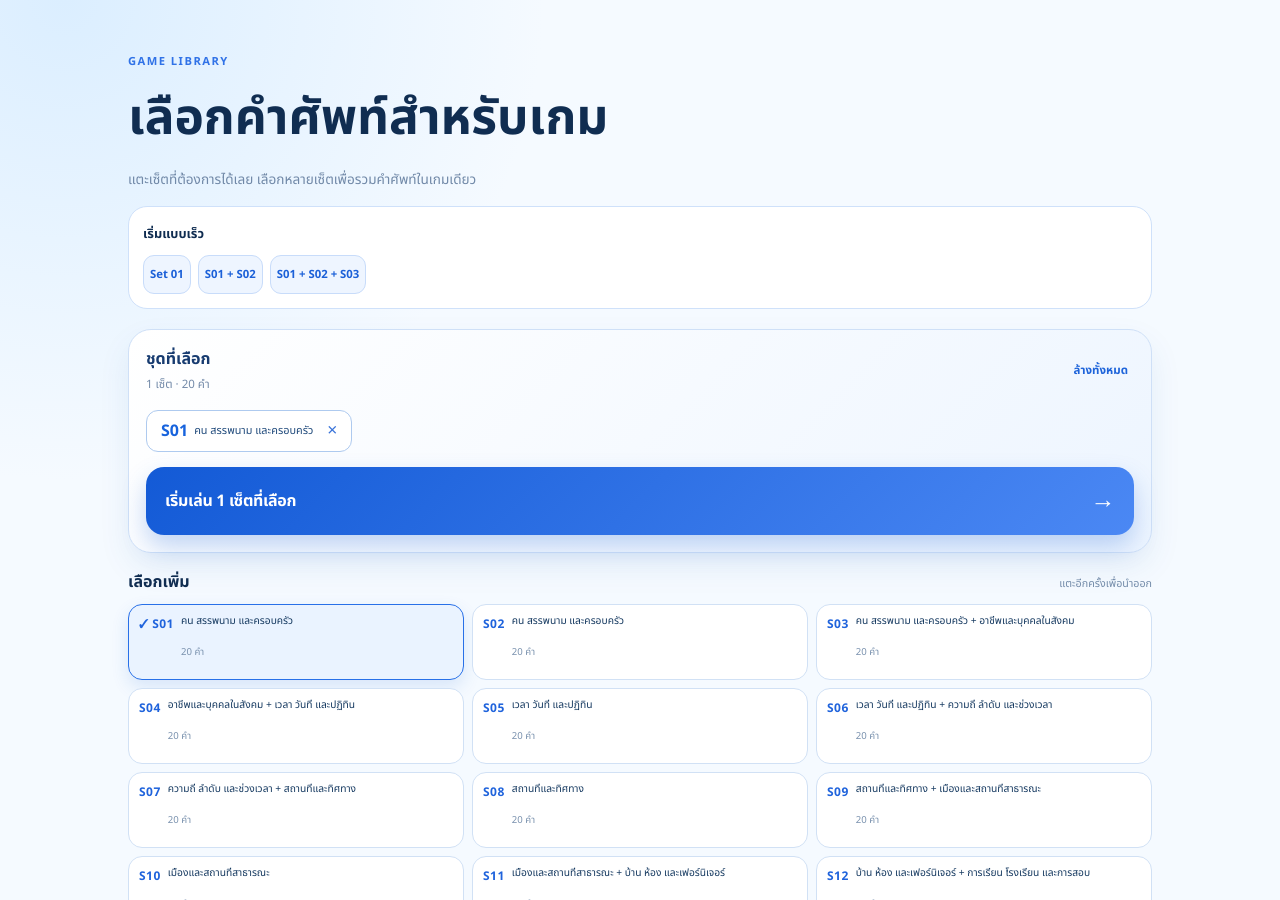
Test: lets a learner select multiple sets for a game
Expected: the link "เริ่มเล่น 1 เซ็ตที่เลือก →" is shown, [146,467,1134,535]
Click the button with aria-label "เลือก S02" at coordinates (568, 621), box [472,604,808,680]
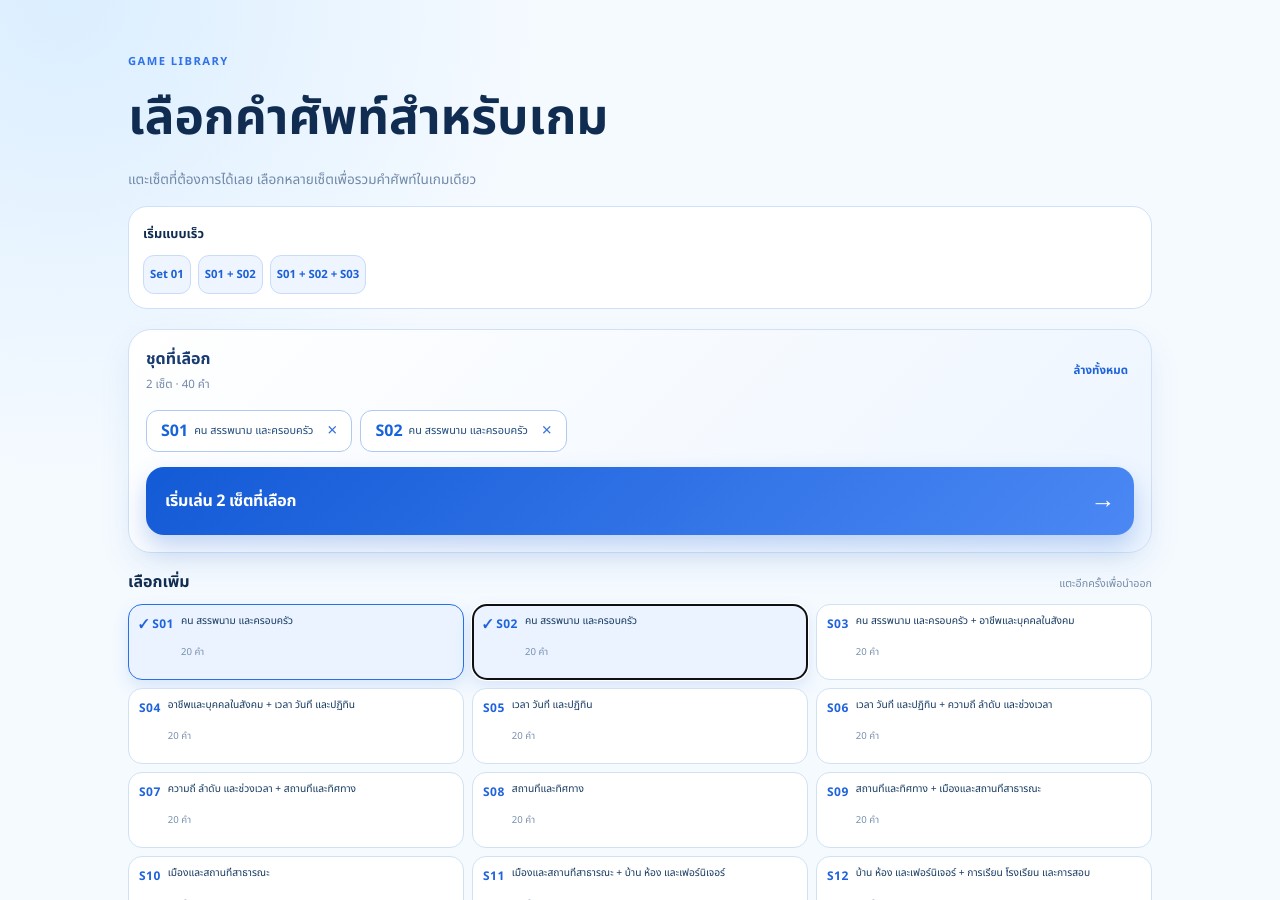
Now the link "เริ่มเล่น 2 เซ็ตที่เลือก →" has attribute href="/practice/S01+S02", box [146,467,1134,535]
Click the button with aria-label "ลบ S01" at coordinates (249, 431), box [146,410,352,452]
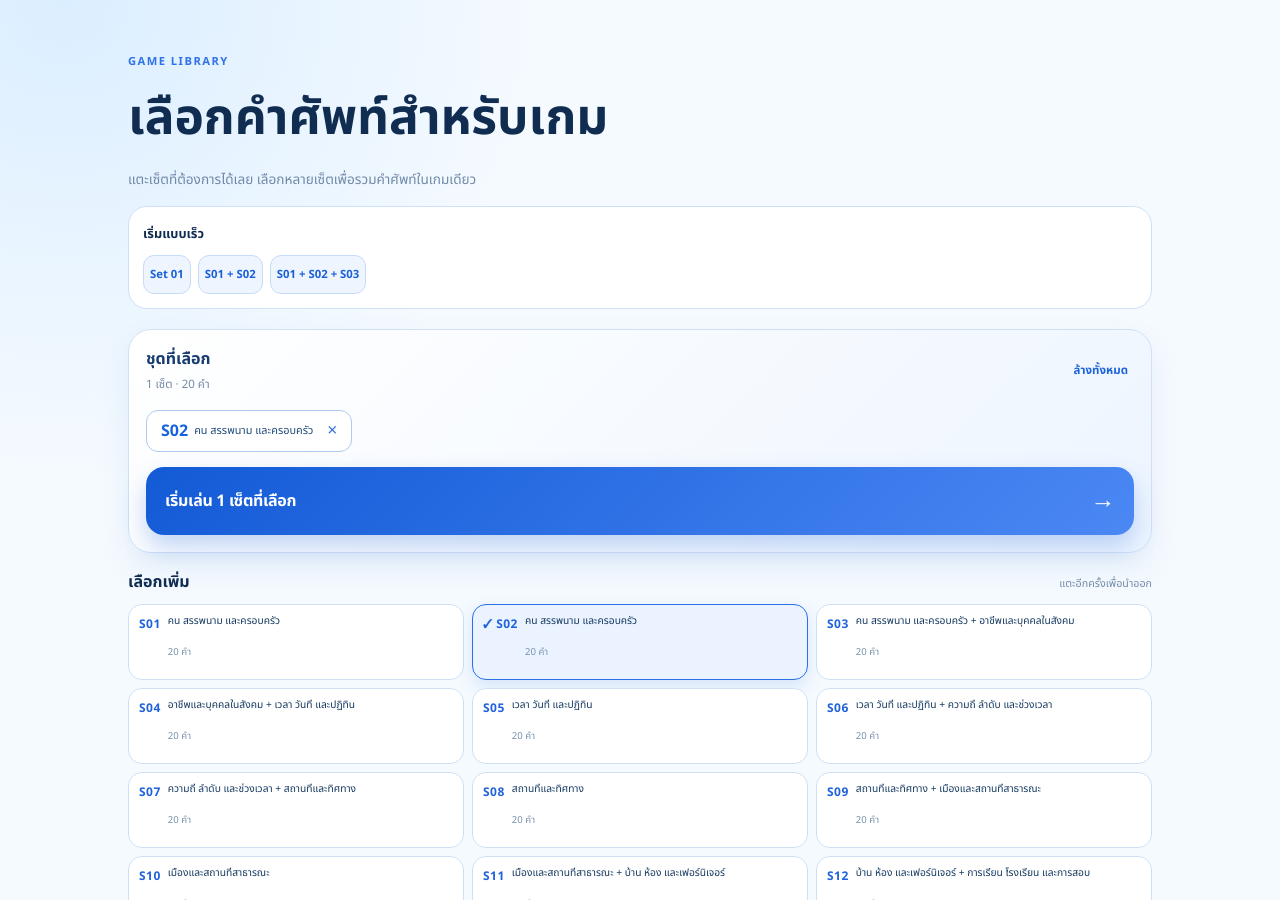
Click the button with aria-label "ลบ S02" at coordinates (249, 431), box [146,410,352,452]
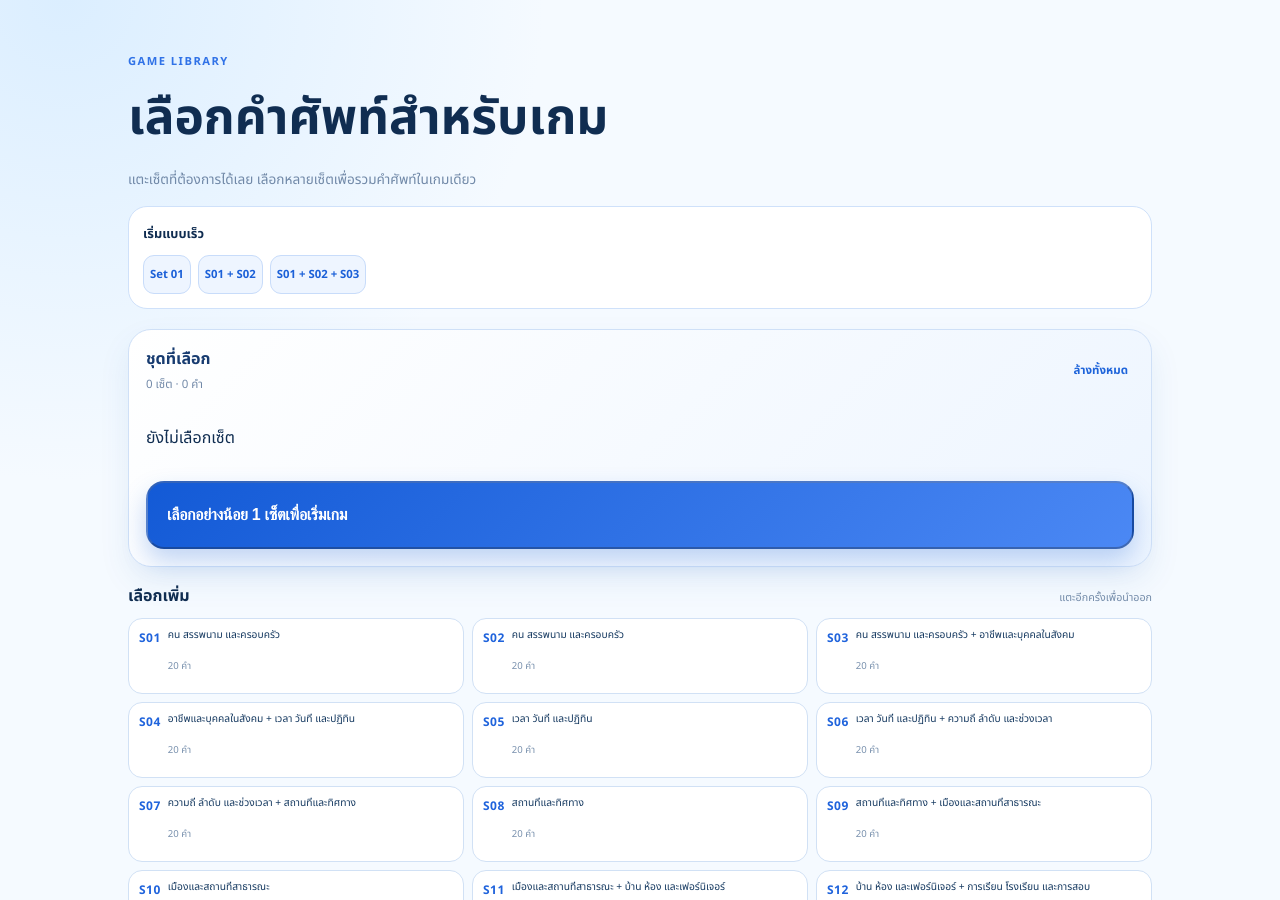
Now the button "เลือกอย่างน้อย 1 เซ็ตเพื่อเริ่มเกม" is disabled, box [146,481,1134,549]
